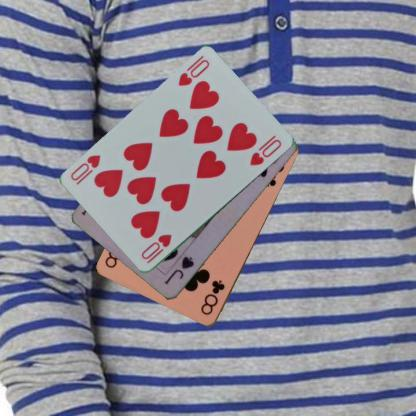10h: (139, 232, 173, 265), (175, 57, 211, 88)
8c: (198, 277, 227, 317)
Js: (161, 254, 196, 287)
